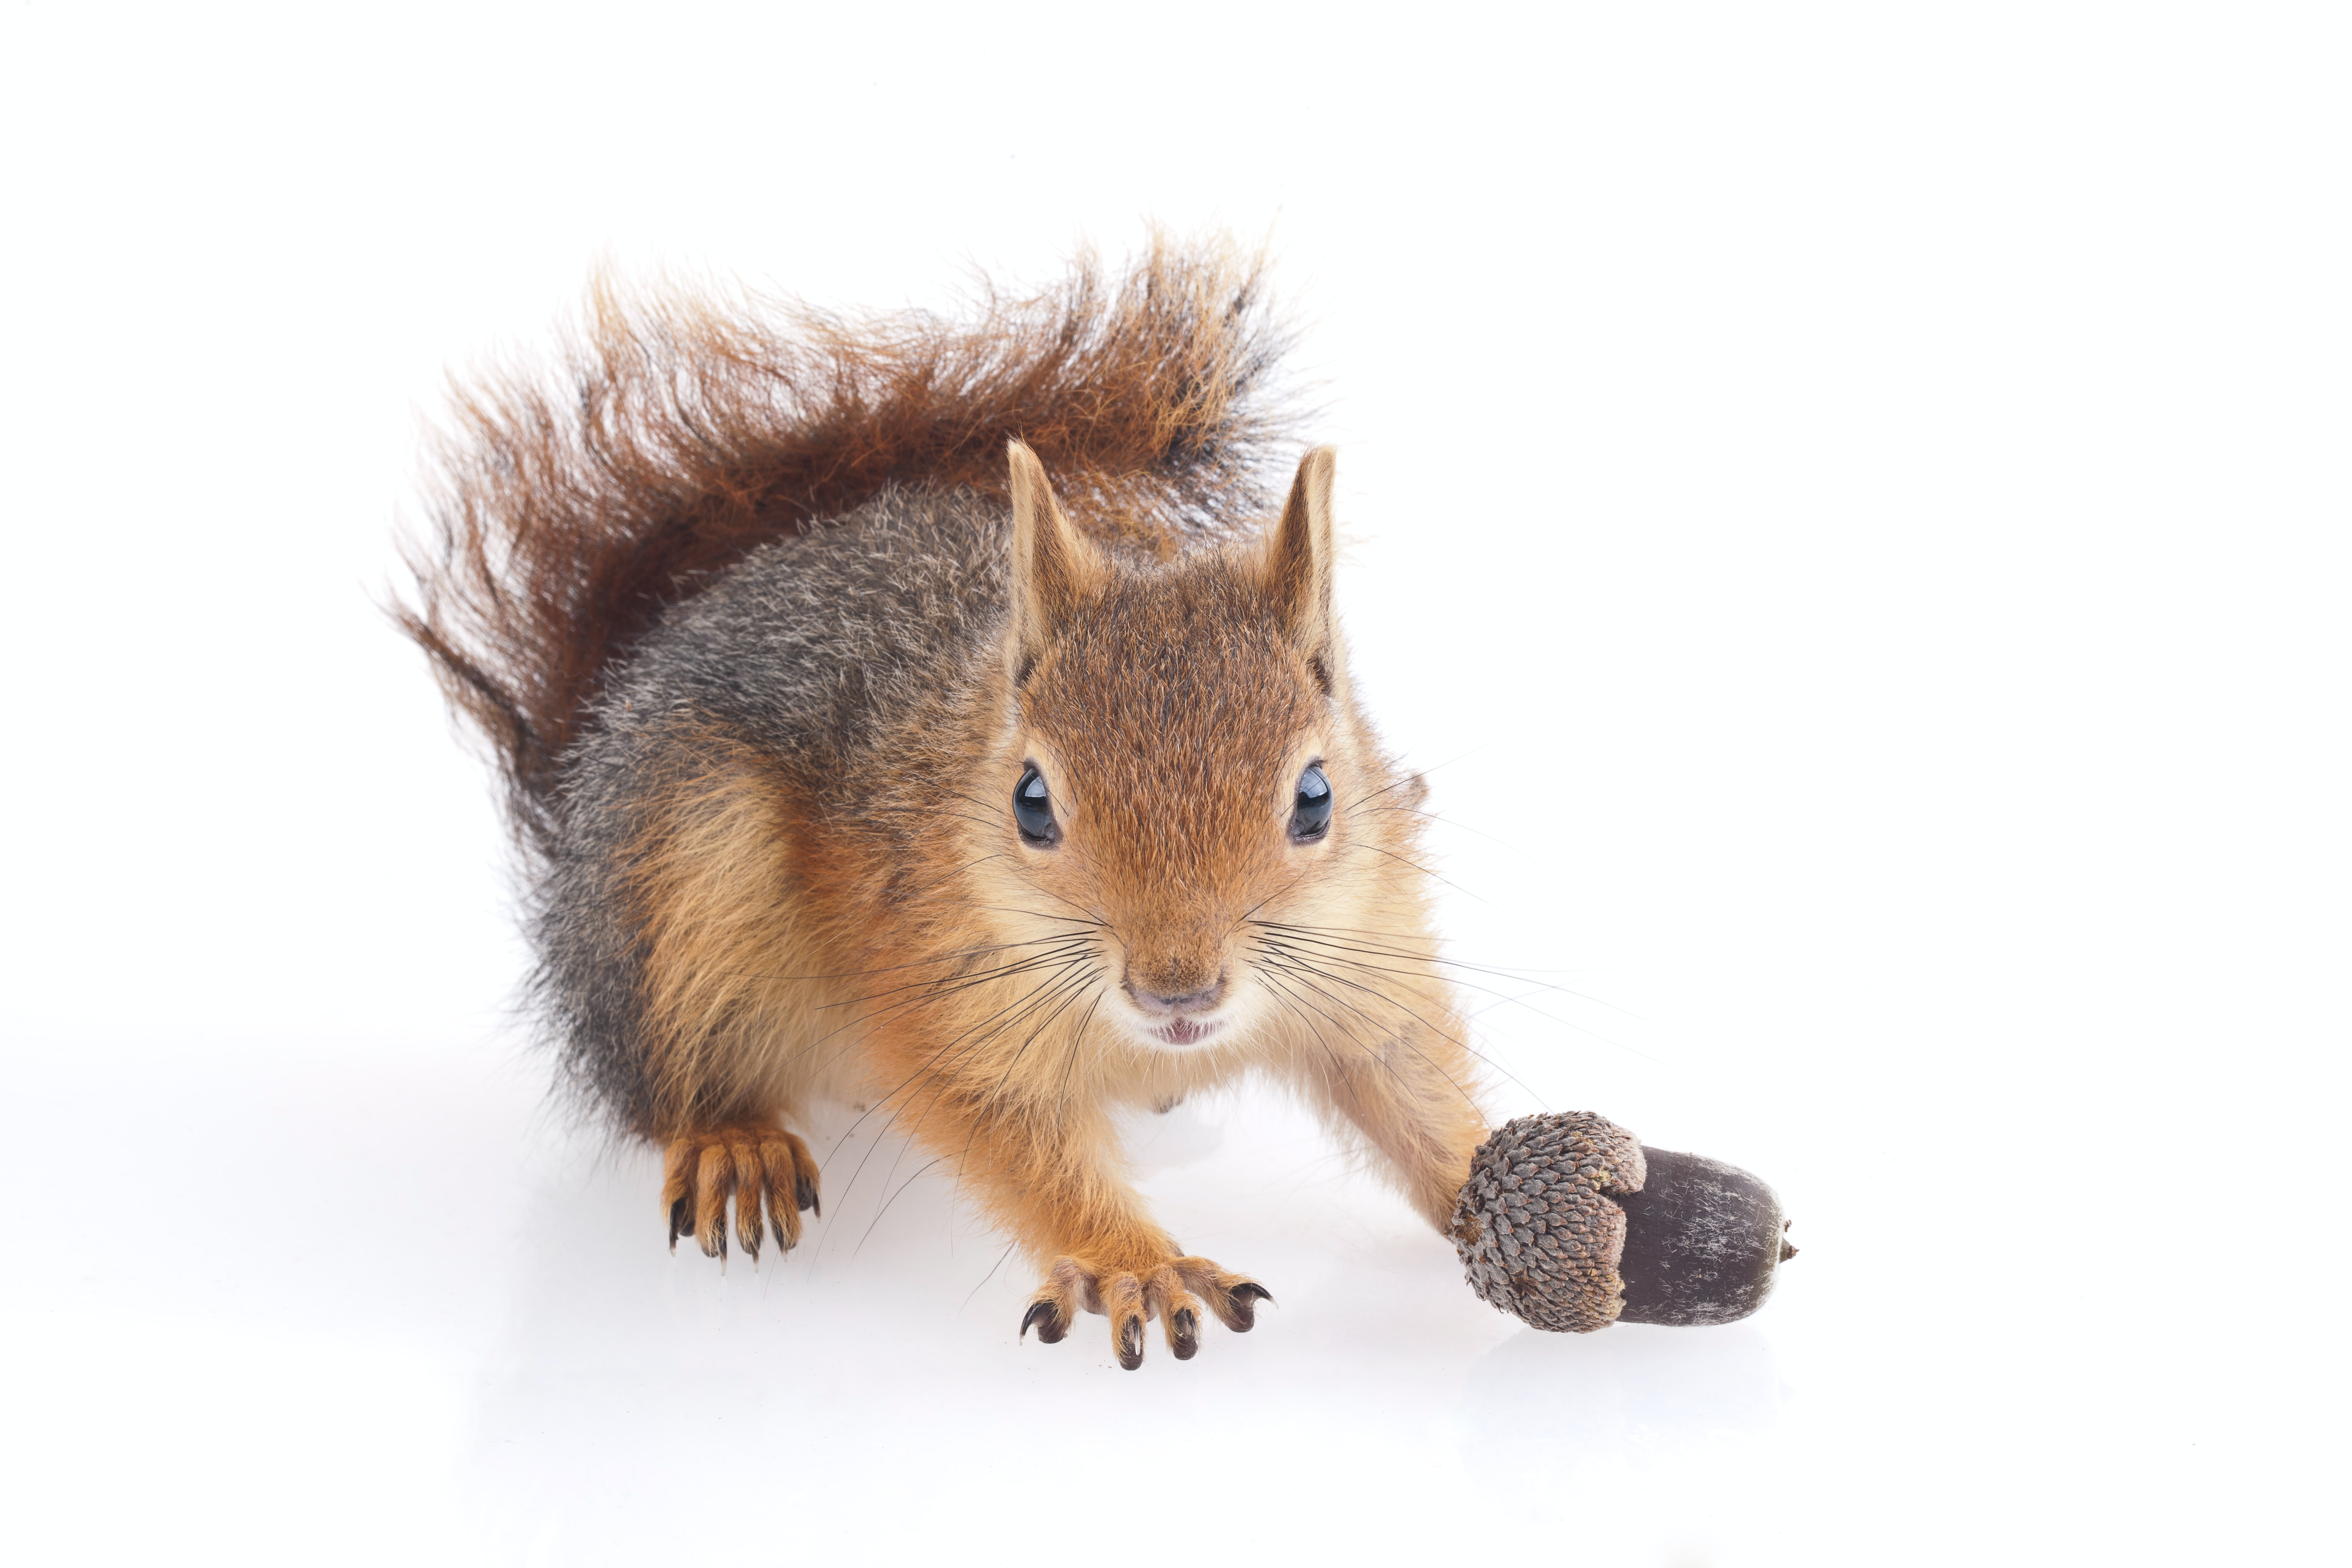squirrel: (444, 238, 1486, 1356)
